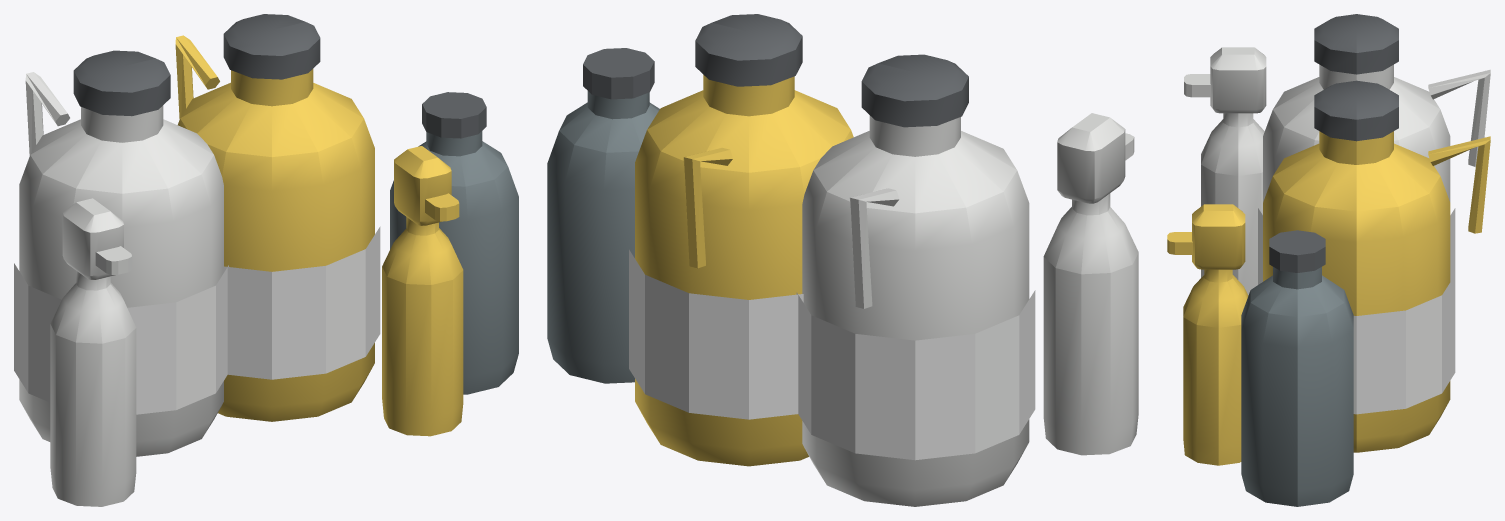
3 views of the same model, side by side, from view 1: azimuth 30°, elevation 25°; view 2: azimuth 150°, elevation 25°; view 3: azimuth 270°, elevation 25° (orthographic). The views are drawn at different scales.
Parts seen in each view (by area): view 1: chemical-drum-set; view 2: chemical-drum-set; view 3: chemical-drum-set.
Part boxes in pixels (x1,y1,x2,y2): chemical-drum-set: (14, 14, 518, 506); chemical-drum-set: (547, 14, 1138, 506); chemical-drum-set: (1167, 14, 1490, 506).
Size of the model in its own units: 0.5199 by 0.36 by 0.3282.
